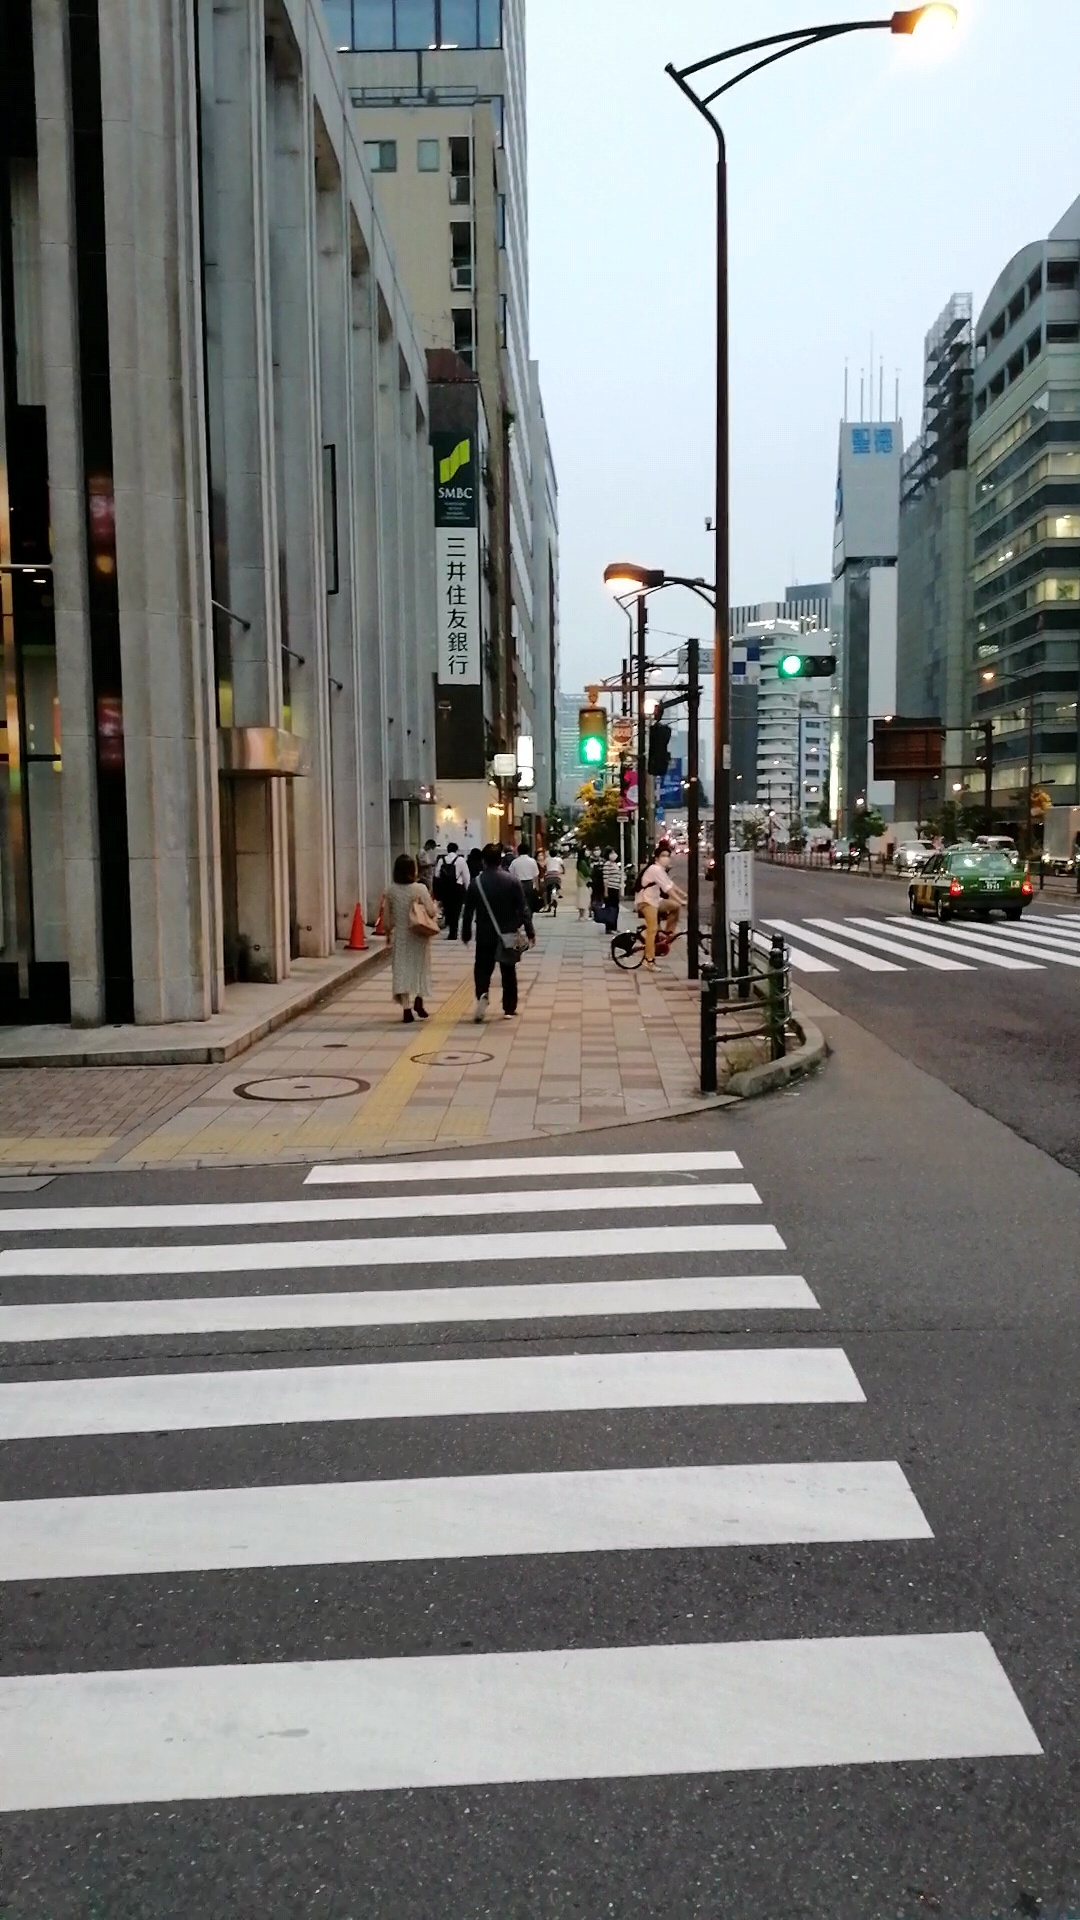green: (578, 705, 608, 766)
